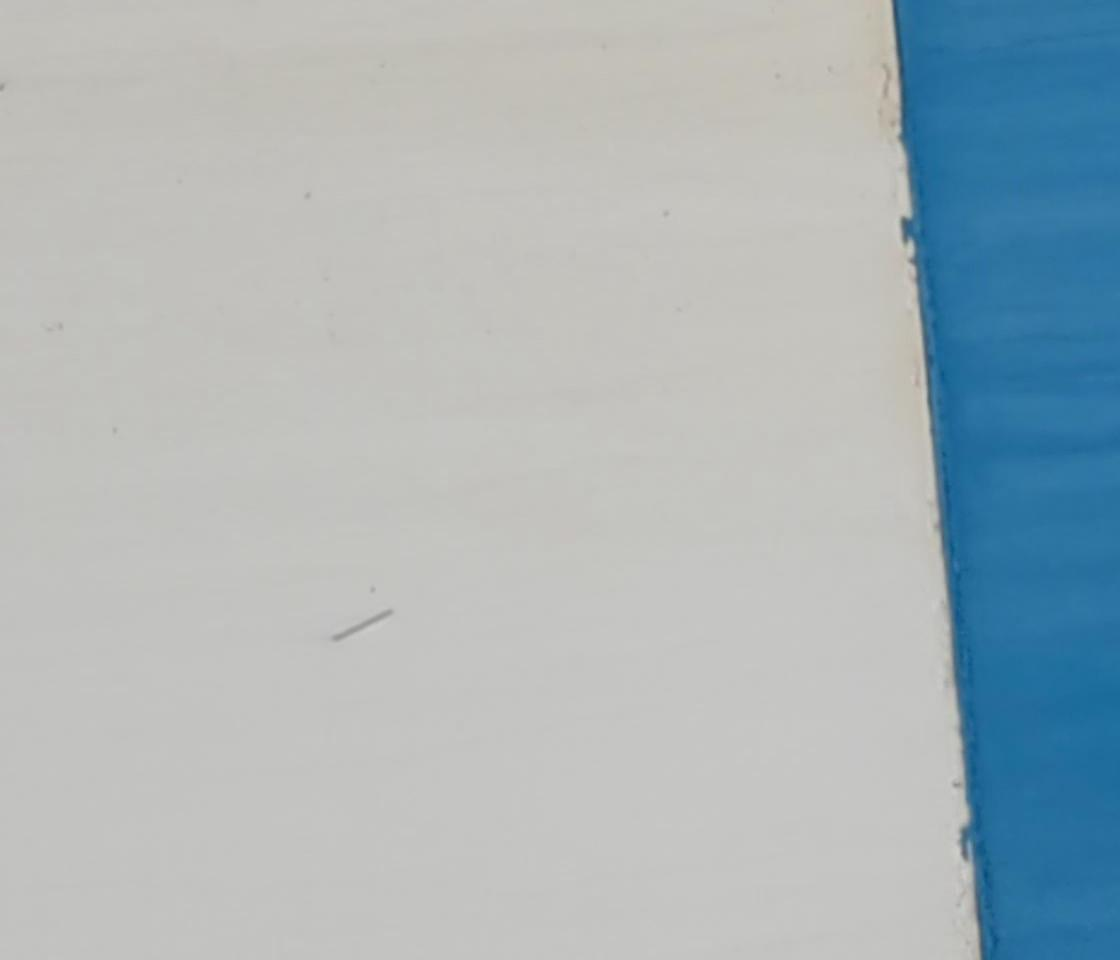scratch: (329, 608, 400, 645)
